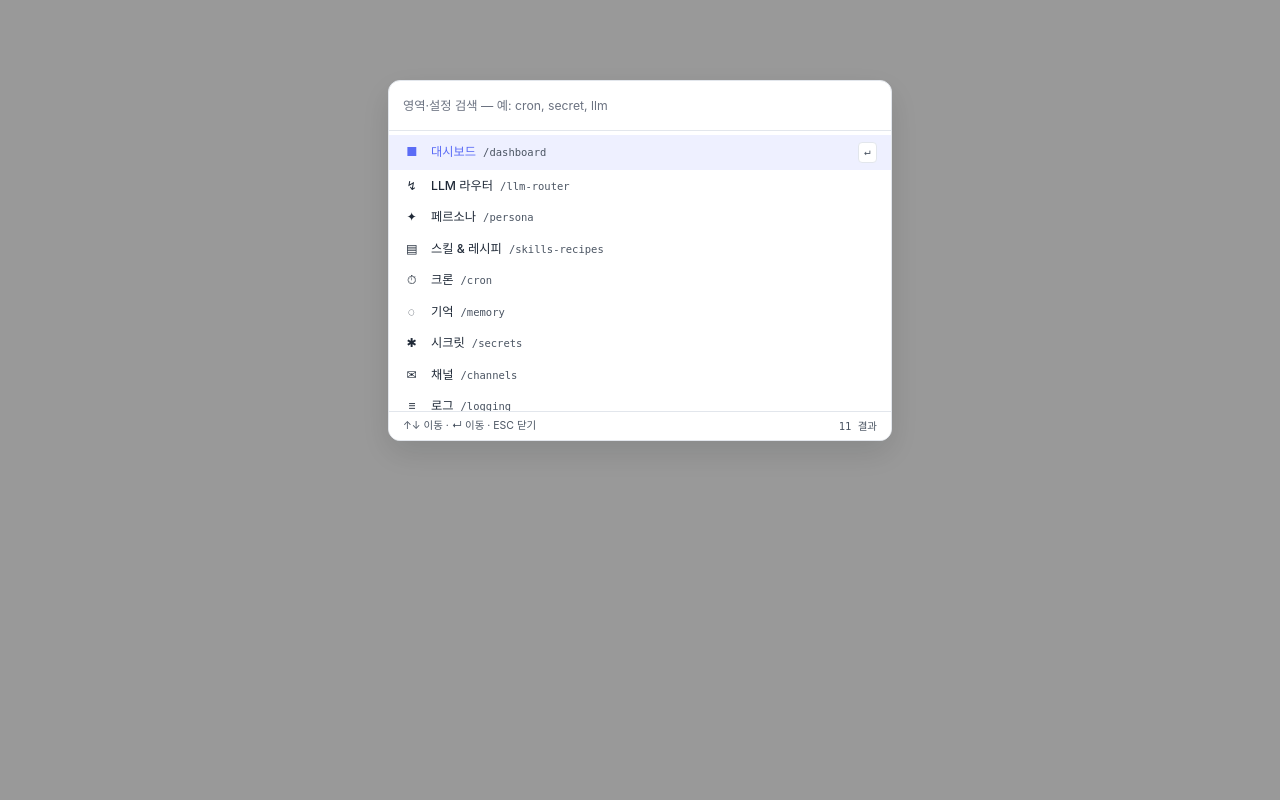
Test: CommandPalette › 입력으로 결과가 필터된다
Type "secret" into the search field with test id "command-palette-input".
click(640, 106); type("secret")  # box [403,92,877,120]
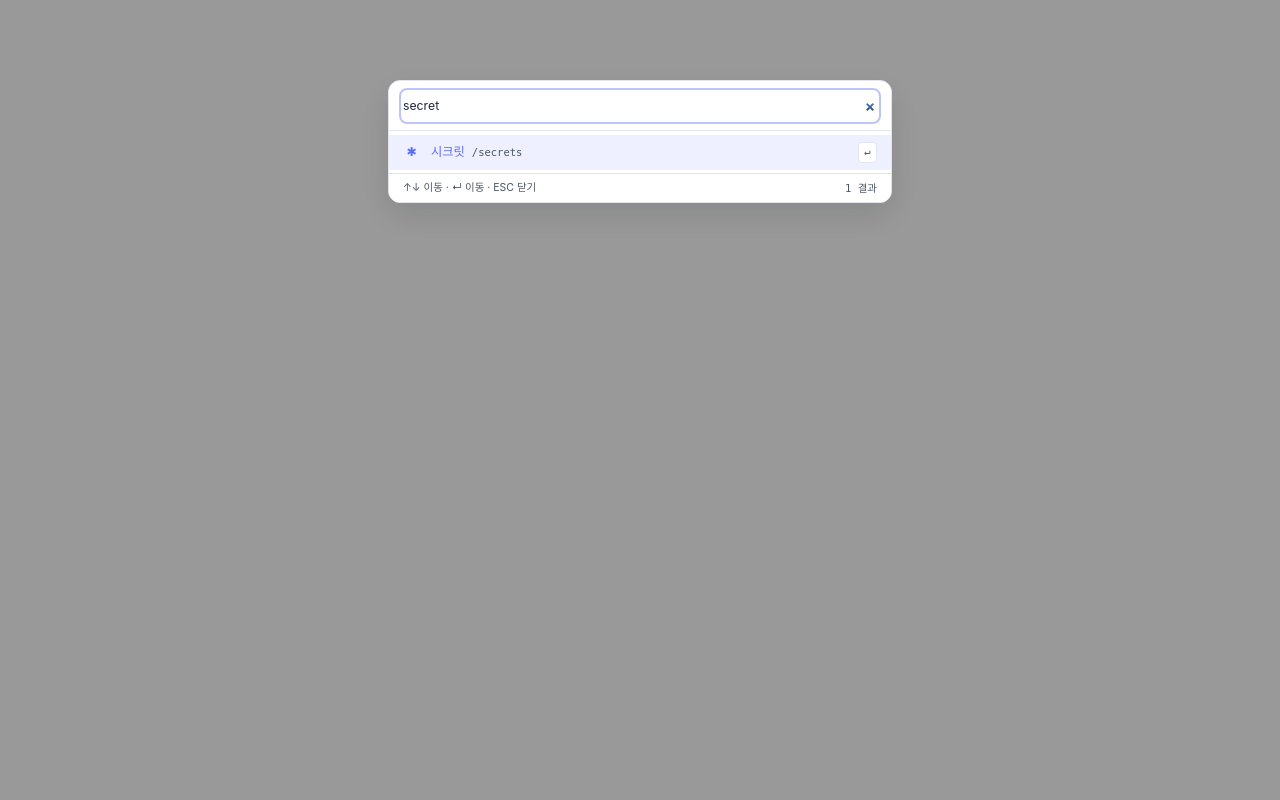
expect the option with test id "command-palette-item-secrets" is shown: met, box [389,134,891,170]
expect the option with test id "command-palette-item-cron" is gone: met
